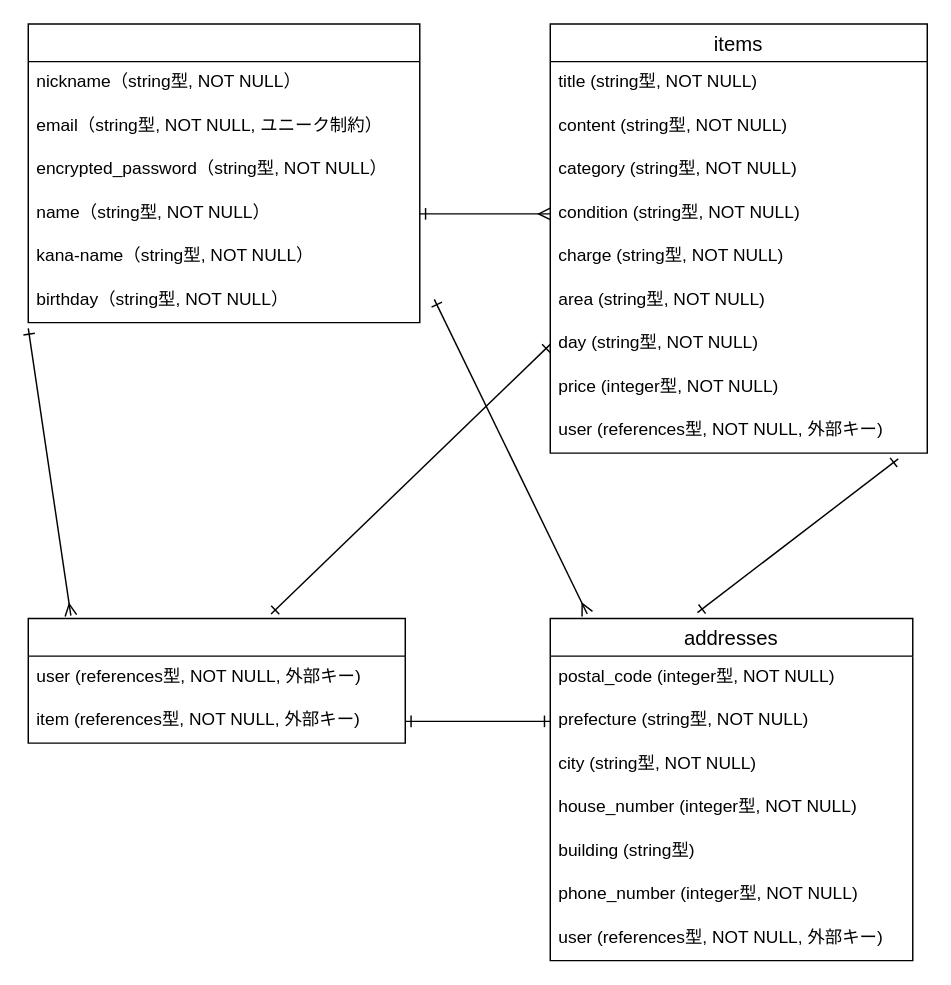
Some shapes in this 951 by 985 pixel diagram are drawn without their labels. Each missing label, with the box of its shape:
records: (27, 617, 405, 743)
users: (27, 22, 420, 323)
